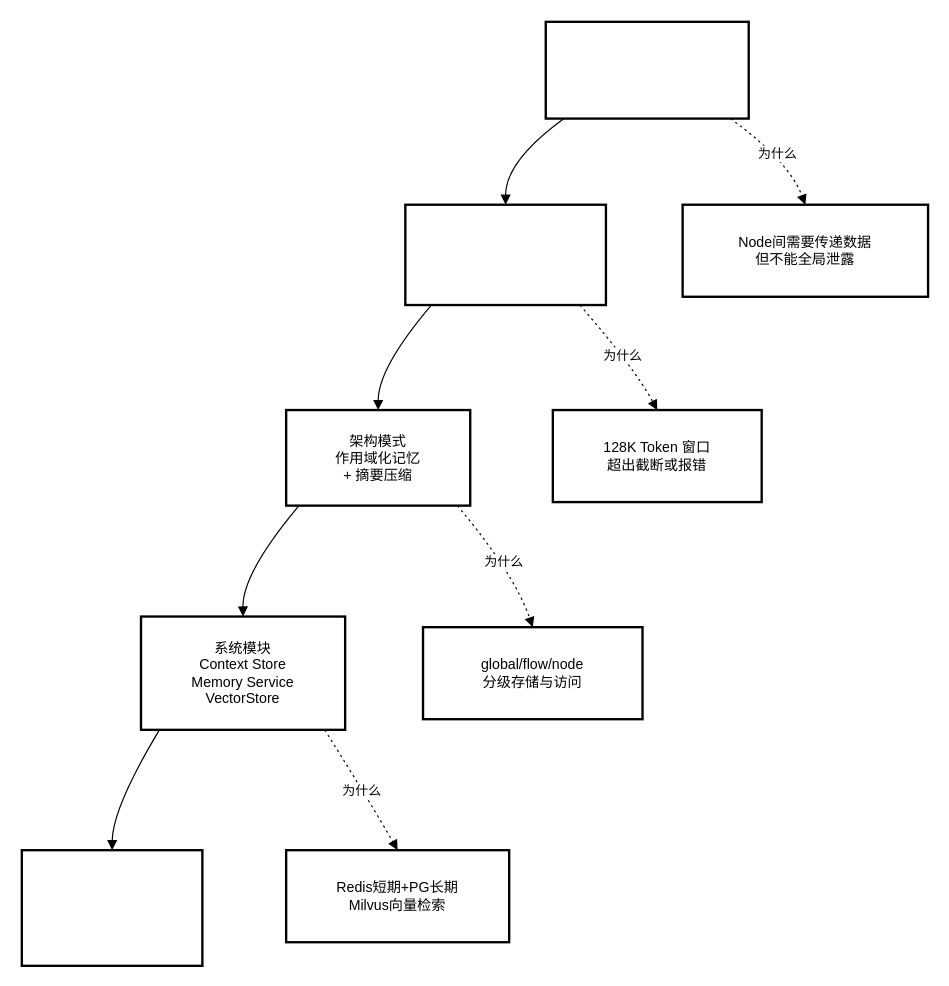
This 949x986 diagram has some shape labels left out. The shapes that lost their labels are listed below. From the top down, each one's centre as x and y in pixels, then its label:
At point (646, 69): "业务需求 跨步骤信息共享 避免上下文污染".
At point (505, 254): "技术约束 LLM Token 限制 长文本成本高".
At point (111, 907): "关键能力 • 作用域管理 • 摘要压缩 • 语义检索".
